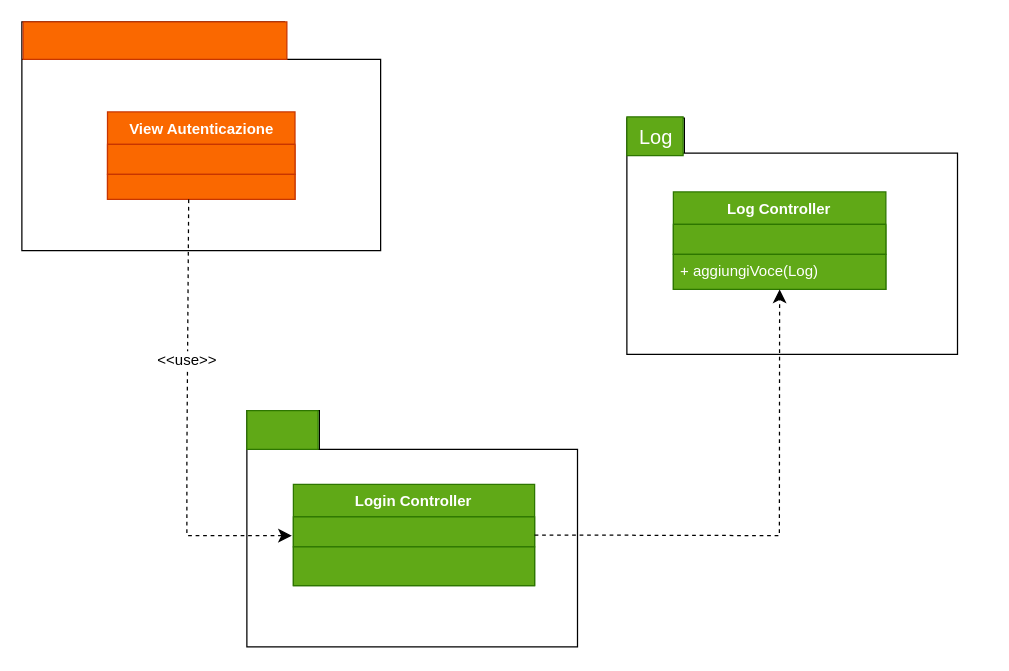
The diagram is 1009 pixels wide and 671 high, and some of its shapes have lost their labels. The shapes that lost their labels are listed below. From the top down, each one's centre as x and y in pixels, then its label:
At (154,40): "Interfaccia Login".
At (282,429): "Login".
At (413,566): "+ autentica(Username, Password)".
